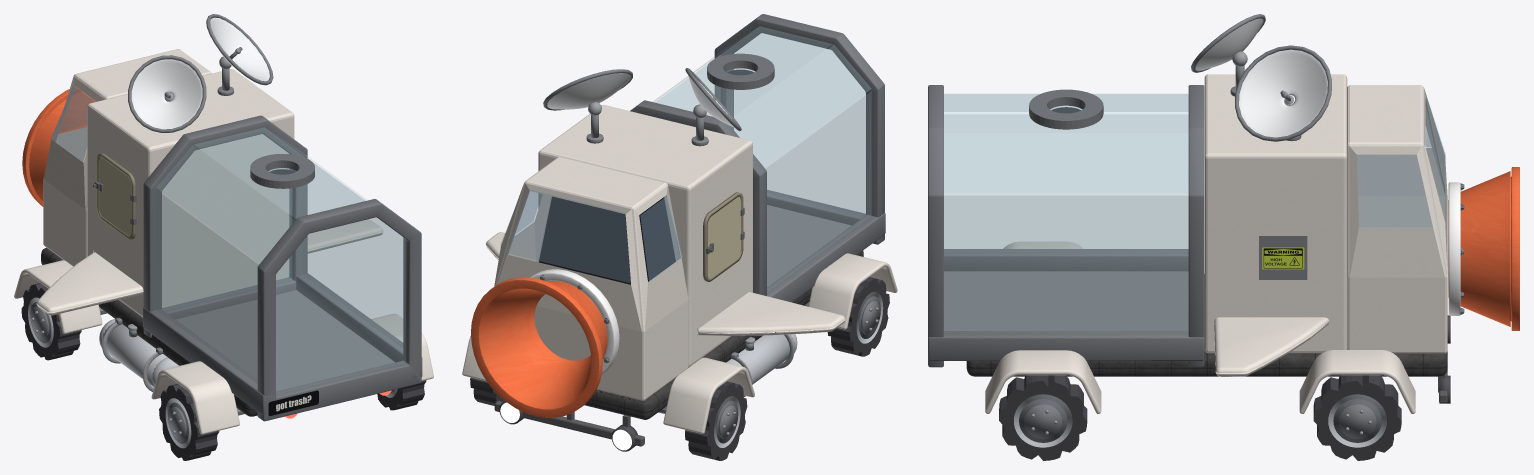
File: garbage-truck-concept.glb
3 views of the same model, side by side, from view 1: azimuth 30°, elevation 25°; view 2: azimuth 150°, elevation 25°; view 3: azimuth 270°, elevation 25° (orthographic). The views are drawn at different scales.
Parts seen in each view (by area): view 1: CabHatch, ContainerGlassBack, ContainerGlassFront, ContainerGlassLeft, ContainerFrameBack, ContainerFloor, ContainerGlassRight, ContainerFrameFront, CabNose, ContainerGlassLeftSlant, ContainerGlassRoof, SatDishA_Dish (+24 smaller); view 2: CabNose, CabHatch, ContainerGlassBack, ContainerGlassLeft, SuctionCone, ContainerFrameBack, CabInteriorBack, CabGlassWindshield, ContainerGlassLeftSlant, ContainerGlassRoof, CabWingL, WheelWellFL (+24 smaller); view 3: ContainerGlassRight, ContainerGlassLeft, CabHatch, CabNose, ContainerFloor, ContainerGlassRightSlant, SuctionCone, ContainerGlassRoof, ContainerFrameBottomR, SatDishB_Dish, ContainerFrameBottomL, CabGlassR (+22 smaller).
Boxes of the visible parts, left/top/right/bottom form: CabHatch: left=87, top=69, right=294, bottom=317; ContainerGlassBack: left=276, top=217, right=405, bottom=393; ContainerGlassFront: left=162, top=134, right=291, bottom=309; ContainerGlassLeft: left=156, top=190, right=258, bottom=383; ContainerFrameBack: left=257, top=199, right=421, bottom=421; ContainerFloor: left=176, top=290, right=394, bottom=391; ContainerGlassRight: left=302, top=155, right=402, bottom=347; ContainerFrameFront: left=143, top=115, right=307, bottom=337; CabNose: left=43, top=49, right=211, bottom=266; ContainerGlassLeftSlant: left=157, top=145, right=294, bottom=262; ContainerGlassRoof: left=194, top=127, right=364, bottom=218; SatDishA_Dish: left=131, top=59, right=202, bottom=129; CabNose: left=494, top=157, right=688, bottom=400; CabHatch: left=538, top=105, right=752, bottom=366; ContainerGlassBack: left=731, top=33, right=865, bottom=215; ContainerGlassLeft: left=766, top=91, right=871, bottom=291; SuctionCone: left=471, top=277, right=607, bottom=417; ContainerFrameBack: left=714, top=14, right=884, bottom=244; CabInteriorBack: left=539, top=196, right=675, bottom=284; CabGlassWindshield: left=507, top=190, right=630, bottom=282; ContainerGlassLeftSlant: left=731, top=45, right=871, bottom=166; ContainerGlassRoof: left=656, top=26, right=832, bottom=116; CabWingL: left=697, top=292, right=845, bottom=337; WheelWellFL: left=663, top=357, right=754, bottom=433; ContainerGlassRight: left=944, top=196, right=1188, bottom=332; ContainerGlassLeft: left=944, top=115, right=1188, bottom=251; CabHatch: left=1204, top=74, right=1347, bottom=353; CabNose: left=1347, top=85, right=1447, bottom=353; ContainerFloor: left=944, top=271, right=1188, bottom=330; ContainerGlassRightSlant: left=944, top=134, right=1188, bottom=192; SuctionCone: left=1448, top=167, right=1519, bottom=330; ContainerGlassRoof: left=944, top=94, right=1188, bottom=133; ContainerFrameBottomR: left=928, top=331, right=1204, bottom=360; SatDishB_Dish: left=1239, top=49, right=1327, bottom=137; ContainerFrameBottomL: left=944, top=249, right=1188, bottom=271; CabGlassR: left=1357, top=155, right=1432, bottom=227.
Bounding box in the file's own units: 2.56 × 2.34 × 3.43.
32 materials, 5 textured.
